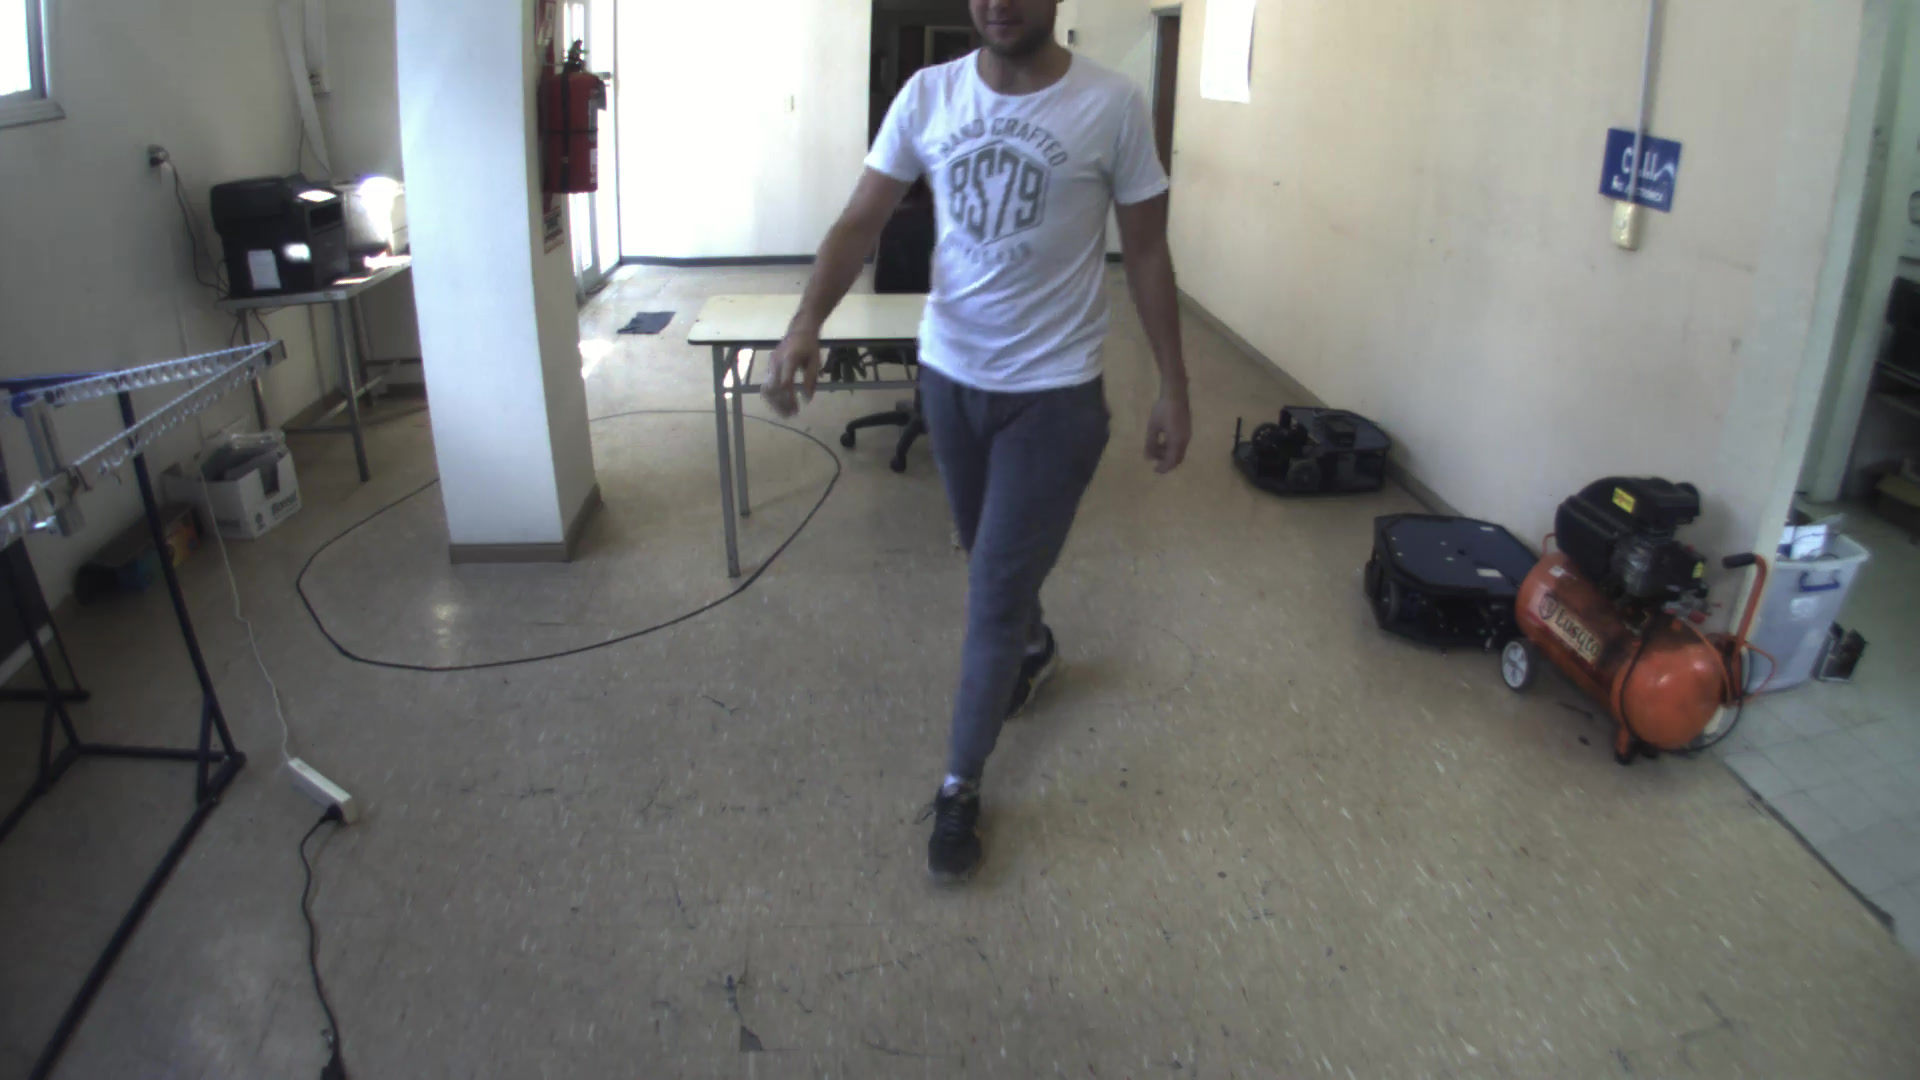hand: (752, 309, 831, 414), (1142, 376, 1204, 476)
